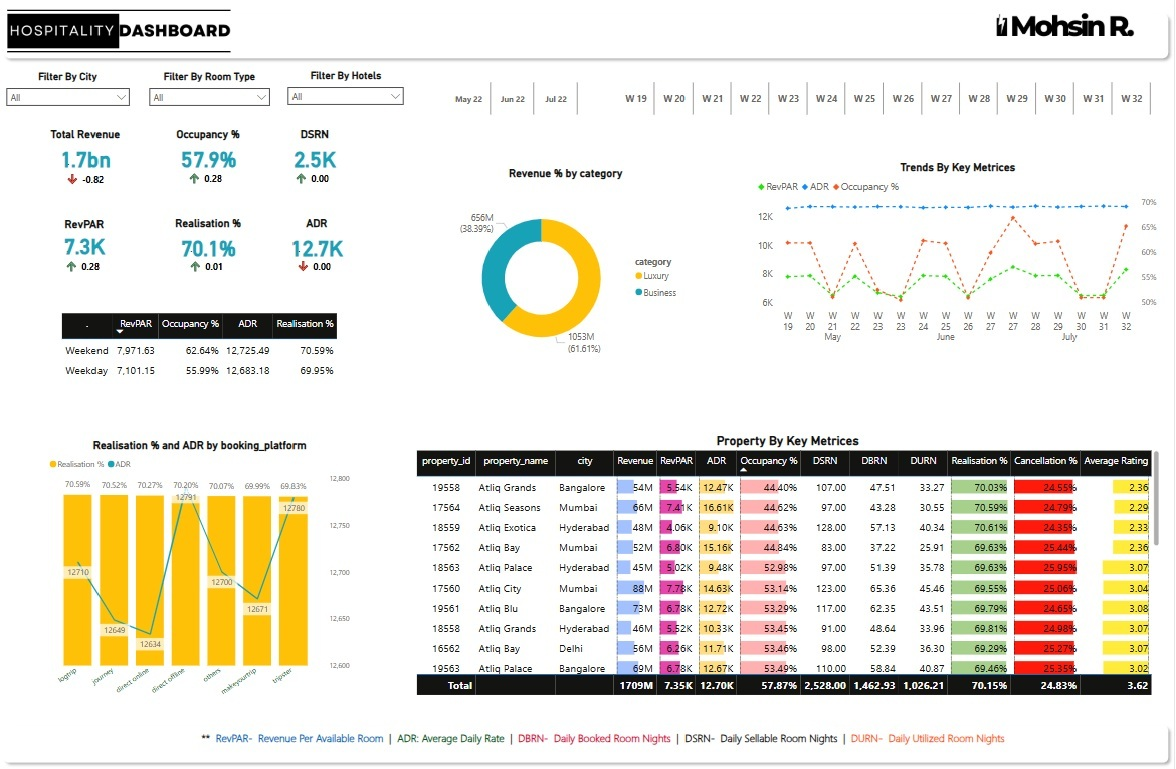

What the dashboard file says about the page in this screenshot:
{"tool":"powerbi","page":{"name":"Page 1","canvas":[1800,1200],"ordinal":0},"visuals":[{"type":"shape","box":[1124.2,207.4,675.8,406.1],"z":0},{"type":"shape","box":[1147,627.3,565.2,537.9],"z":1000},{"type":"shape","box":[656.9,111.8,1130.8,87.7],"z":2000},{"type":"shape","box":[0,73.8,656.9,100],"z":3000},{"type":"tableEx","fields":{"Values":["dim_dates.day type","key_measures.RevPAR","key_measures.Occupancy %","key_measures.ADR","key_measures.Realisation %"]},"box":[92.3,481.5,436.9,118.5],"z":4000},{"type":"slicer","title":"Filter By Month","fields":{"Values":["dim_dates.mmm yy"]},"box":[663.1,124.1,247.7,63.1],"z":5000},{"type":"slicer","title":"Filter By Week Number","fields":{"Values":["dim_dates.week no"]},"box":[923.1,124.1,864.6,63.1],"z":6000},{"type":"slicer","title":"Filter By City","fields":{"Values":["dim_hotels.city"]},"box":[3.1,111.9,207.7,63.1],"z":7000},{"type":"slicer","title":"Filter By Room Type","fields":{"Values":["dim_rooms.room_class"]},"box":[221.5,111.9,204.6,63.1],"z":8000},{"type":"tableEx","fields":{"Values":["key_measures.ADR WoW change %"]},"box":[447.8,373,78.6,58.9],"z":9000},{"type":"card","title":"ADR","fields":{"Values":["key_measures.ADR"]},"box":[428.9,338.2,116.4,74.1],"z":10000},{"type":"tableEx","fields":{"Values":["key_measures.Realisation WoW change %"]},"box":[283.1,373,77.1,58.9],"z":11000},{"type":"card","title":"Realisation %","fields":{"Values":["key_measures.Realisation %"]},"box":[250.6,338.2,142.1,74.1],"z":12000},{"type":"tableEx","fields":{"Values":["key_measures.Revpar WoW change %"]},"box":[94.1,373.1,77.1,58.9],"z":13000},{"type":"card","title":"RevPAR","fields":{"Values":["key_measures.RevPAR"]},"box":[73,339.8,119.4,63.5],"z":14000},{"type":"tableEx","fields":{"Values":["key_measures.DSRN WoW change %"]},"box":[444.8,237.7,78.6,58.9],"z":15000},{"type":"card","title":"DSRN","fields":{"Values":["key_measures.DSRN"]},"box":[425.9,201.3,116.4,74.1],"z":16000},{"type":"tableEx","fields":{"Values":["key_measures.Occupancy WoW change %"]},"box":[282.2,237.7,78.6,58.9],"z":17000},{"type":"card","title":"Occupancy %","fields":{"Values":["key_measures.Occupancy %"]},"box":[250.5,201.3,142.1,74.1],"z":18000},{"type":"tableEx","fields":{"Values":["key_measures.Revenue WoW change %"]},"box":[95.7,238.1,77.1,58.9],"z":19000},{"type":"card","title":"Total Revenue","fields":{"Values":["key_measures.Revenue"]},"box":[74.4,201.5,119.7,74.4],"z":20000},{"type":"shape","box":[624.2,215.7,489.4,406.1],"z":21000},{"type":"donutChart","title":"Revenue % by category","fields":{"Category":["dim_hotels.category"],"Y":["key_measures.Revenue"]},"box":[683.3,261.1,371.2,322.7],"z":22000},{"type":"lineChart","title":"Trends By Key Metrices","fields":{"Category":["dim_dates.mmm yy.Variation.Date Hierarchy.Month","dim_dates.week no"],"Y":["key_measures.RevPAR","key_measures.ADR"],"Y2":["key_measures.Occupancy %"]},"box":[1157.6,253,624.2,292.4],"z":23000},{"type":"shape","box":[31.9,636.1,540.9,477.3],"z":24000},{"type":"lineStackedColumnComboChart","fields":{"Category":["fact_bookings.booking_platform"],"Y":["key_measures.Realisation %"],"Y2":["key_measures.ADR"]},"box":[74.3,680,469.7,407.6],"z":25000},{"type":"shape","box":[630.3,627.8,1159.1,477.3],"z":26000},{"type":"tableEx","title":"Property By Key Metrices","fields":{"Values":["dim_hotels.property_id","dim_hotels.property_name","dim_hotels.city","key_measures.Revenue","key_measures.RevPAR","key_measures.ADR","key_measures.Occupancy %","key_measures.DSRN","key_measures.DBRN","key_measures.DURN","key_measures.Realisation %","key_measures.Cancellation %"]},"box":[634.8,671.2,1147,407.6],"z":27000},{"type":"shape","box":[0,16.9,1800,86.2],"z":28000},{"type":"shape","box":[0,1112.1,1800,74.2],"z":29000},{"type":"image","box":[1481.8,16.7,300,53],"z":30000},{"type":"textbox","box":[158.5,1124.6,1452.3,47.7],"z":31000},{"type":"slicer","title":"Filter By Hotels","fields":{"Values":["dim_hotels.property_name"]},"box":[433.8,110.3,196.9,63.1],"z":32000},{"type":"image","box":[6.2,13.8,358.5,76.9],"z":33000}]}

Visuals, with their boxes in screenshot pixels (x1, y1, x2, y2), scaled from the page's 1800x1200 canvas onto the 1176x769 screenshot:
shape: <box>734,133,1175,393</box>
shape: <box>749,402,1119,747</box>
shape: <box>429,72,1168,128</box>
shape: <box>0,47,429,111</box>
tableEx - dim_dates.day type x key_measures.RevPAR: <box>60,309,346,384</box>
"Filter By Month" slicer: <box>433,80,595,120</box>
"Filter By Week Number" slicer: <box>603,80,1168,120</box>
"Filter By City" slicer: <box>2,72,138,112</box>
"Filter By Room Type" slicer: <box>145,72,278,112</box>
tableEx - key_measures.ADR WoW change %: <box>293,239,344,277</box>
"ADR" card: <box>280,217,356,264</box>
tableEx - key_measures.Realisation WoW change %: <box>185,239,235,277</box>
"Realisation %" card: <box>164,217,257,264</box>
tableEx - key_measures.Revpar WoW change %: <box>61,239,112,277</box>
"RevPAR" card: <box>48,218,126,258</box>
tableEx - key_measures.DSRN WoW change %: <box>291,152,342,190</box>
"DSRN" card: <box>278,129,354,176</box>
tableEx - key_measures.Occupancy WoW change %: <box>184,152,236,190</box>
"Occupancy %" card: <box>164,129,256,176</box>
tableEx - key_measures.Revenue WoW change %: <box>63,153,113,190</box>
"Total Revenue" card: <box>49,129,127,177</box>
shape: <box>408,138,728,398</box>
"Revenue % by category" donutChart: <box>446,167,689,374</box>
"Trends By Key Metrices" lineChart: <box>756,162,1164,350</box>
shape: <box>21,408,374,714</box>
lineStackedColumnComboChart - fact_bookings.booking_platform x key_measures.Realisation %: <box>49,436,355,697</box>
shape: <box>412,402,1169,708</box>
"Property By Key Metrices" tableEx: <box>415,430,1164,691</box>
shape: <box>0,11,1175,66</box>
shape: <box>0,713,1175,760</box>
image: <box>968,11,1164,45</box>
textbox: <box>104,721,1052,751</box>
"Filter By Hotels" slicer: <box>283,71,412,111</box>
image: <box>4,9,238,58</box>
